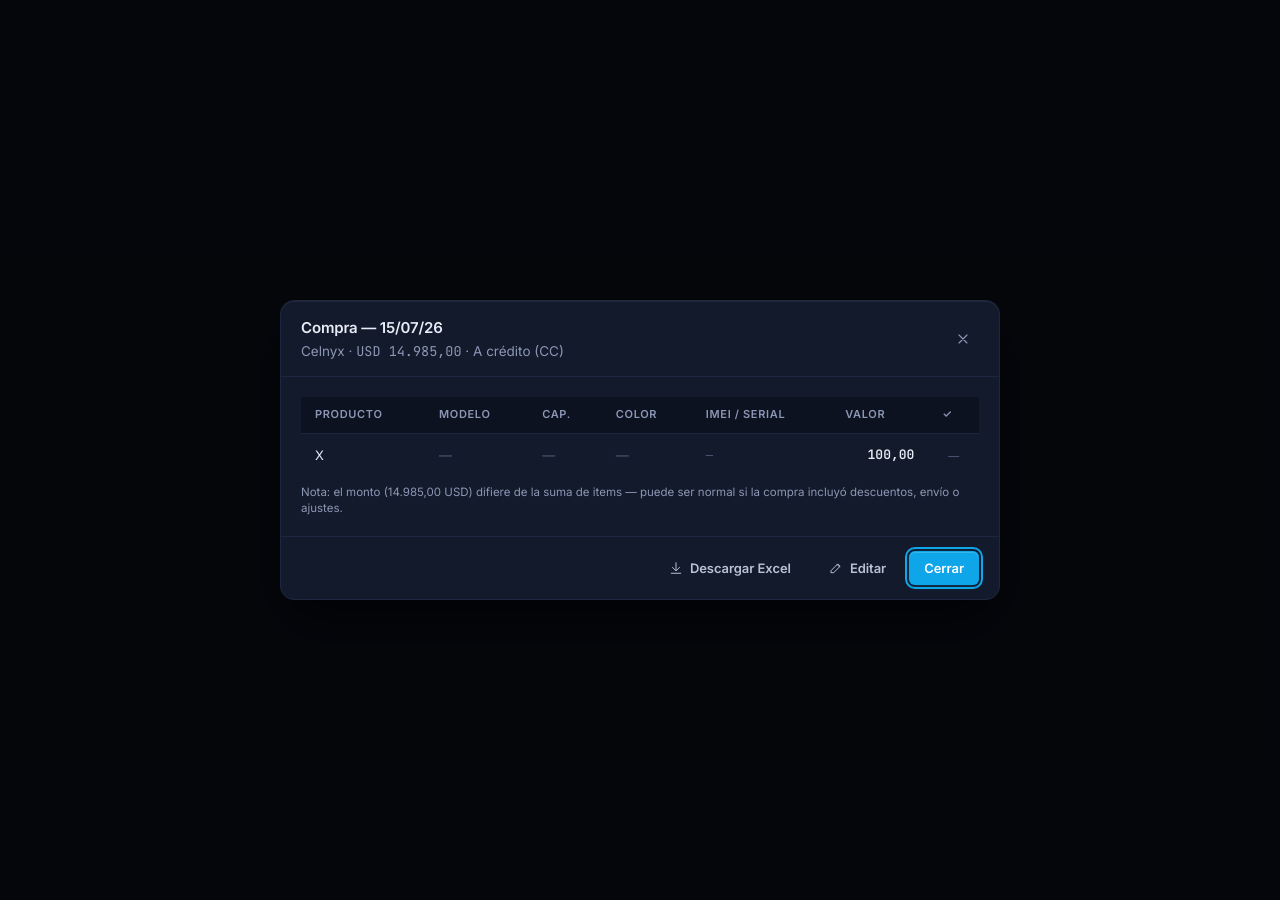
Test: modo edit — guardar › backend 409 producto vendido: muestra error, no cierra
This screenshot has width=1280, height=900.
Click the button "Editar": (858, 568) [814, 551, 901, 585]
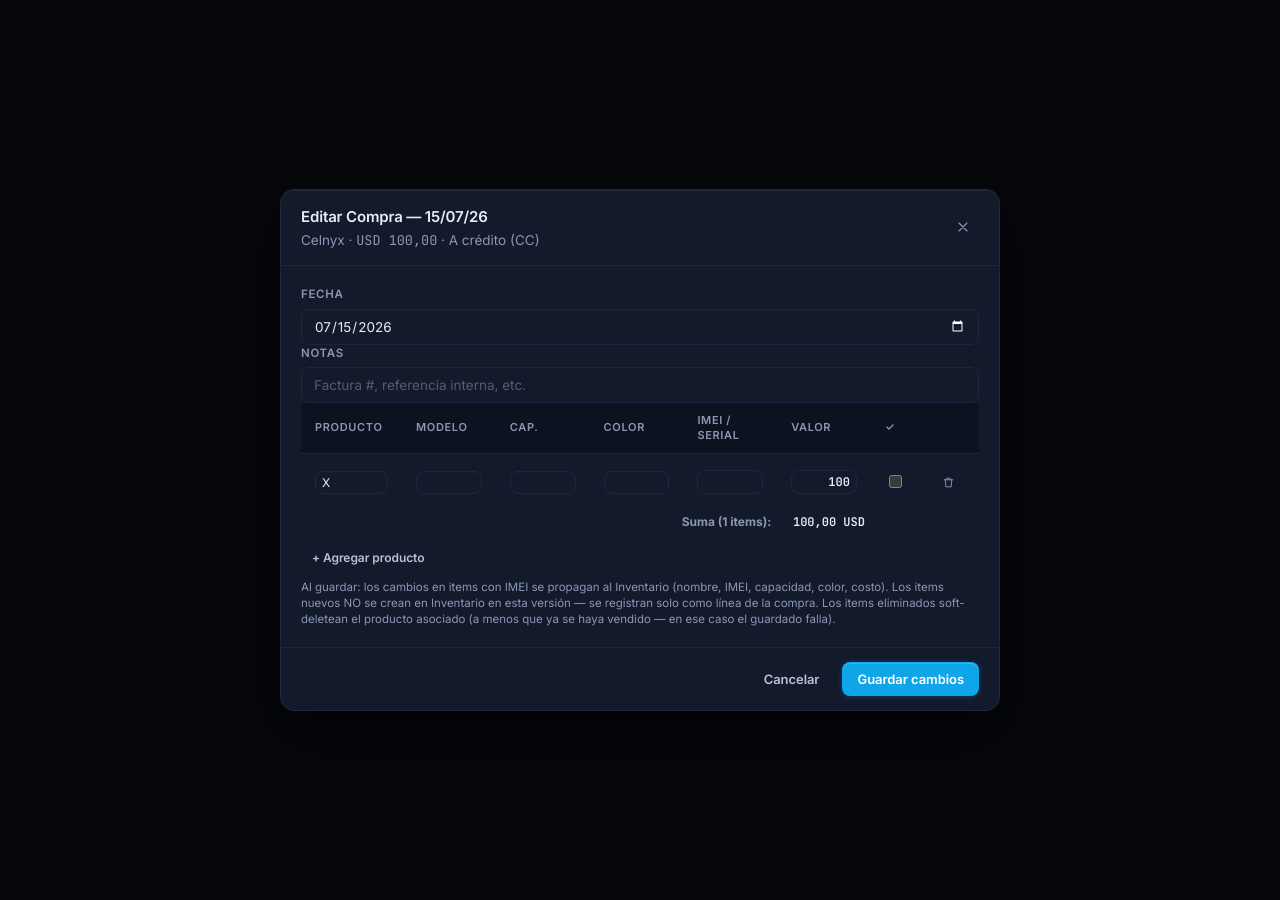
Click the button titled "Eliminar item": (949, 482) [933, 466, 965, 498]
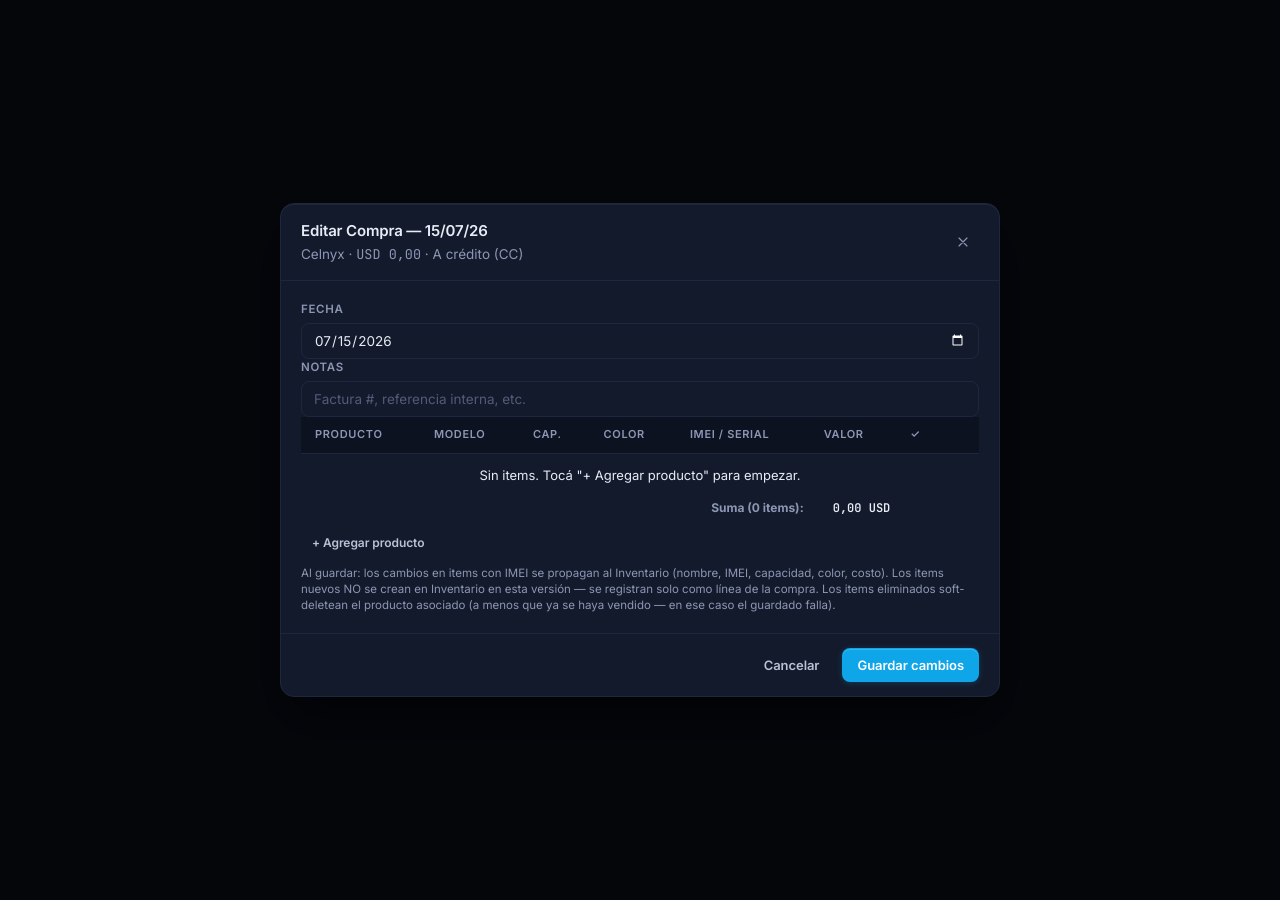
Click the button "Guardar cambios": (911, 665) [842, 648, 979, 682]
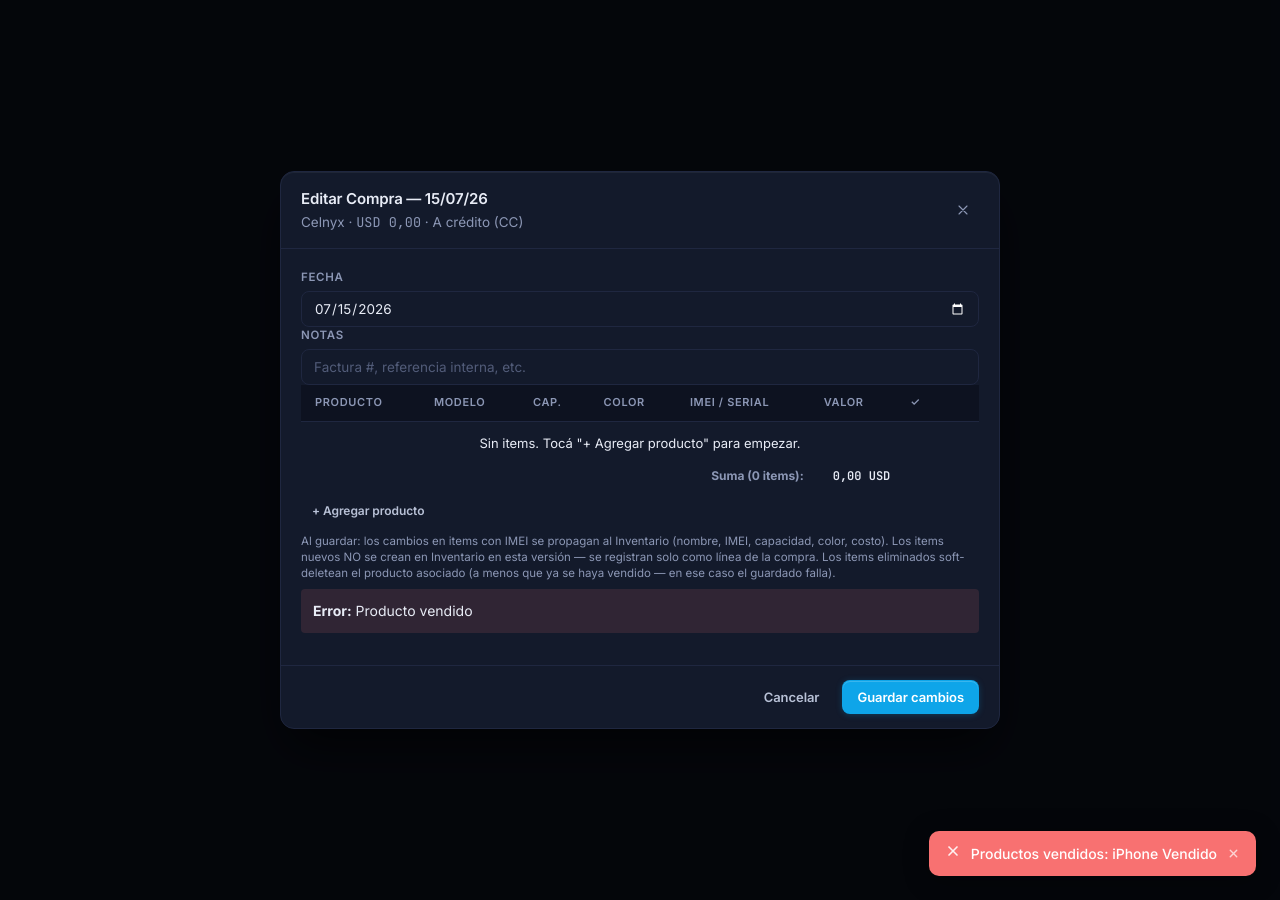
Result: the text "Error" is shown at [313, 602, 352, 619]
